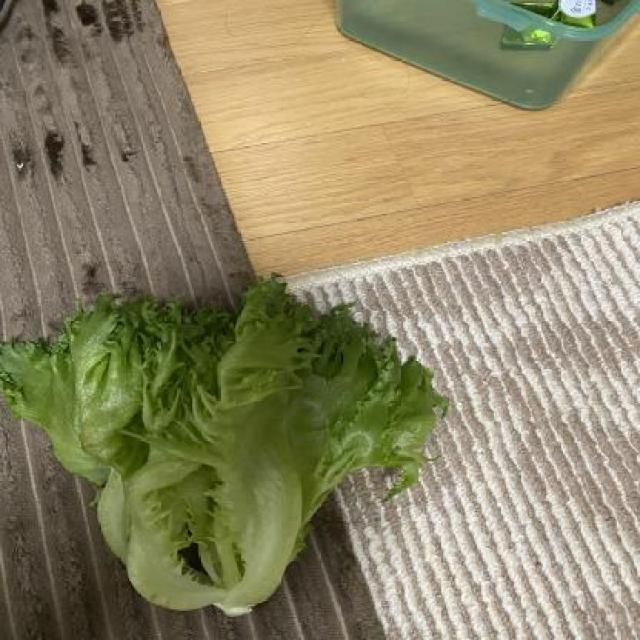lettuce: (2, 274, 449, 624)
